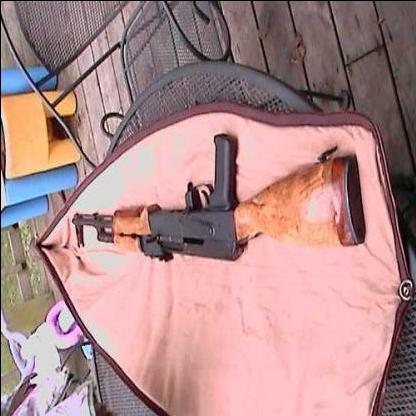rifle: (47, 124, 378, 275)
